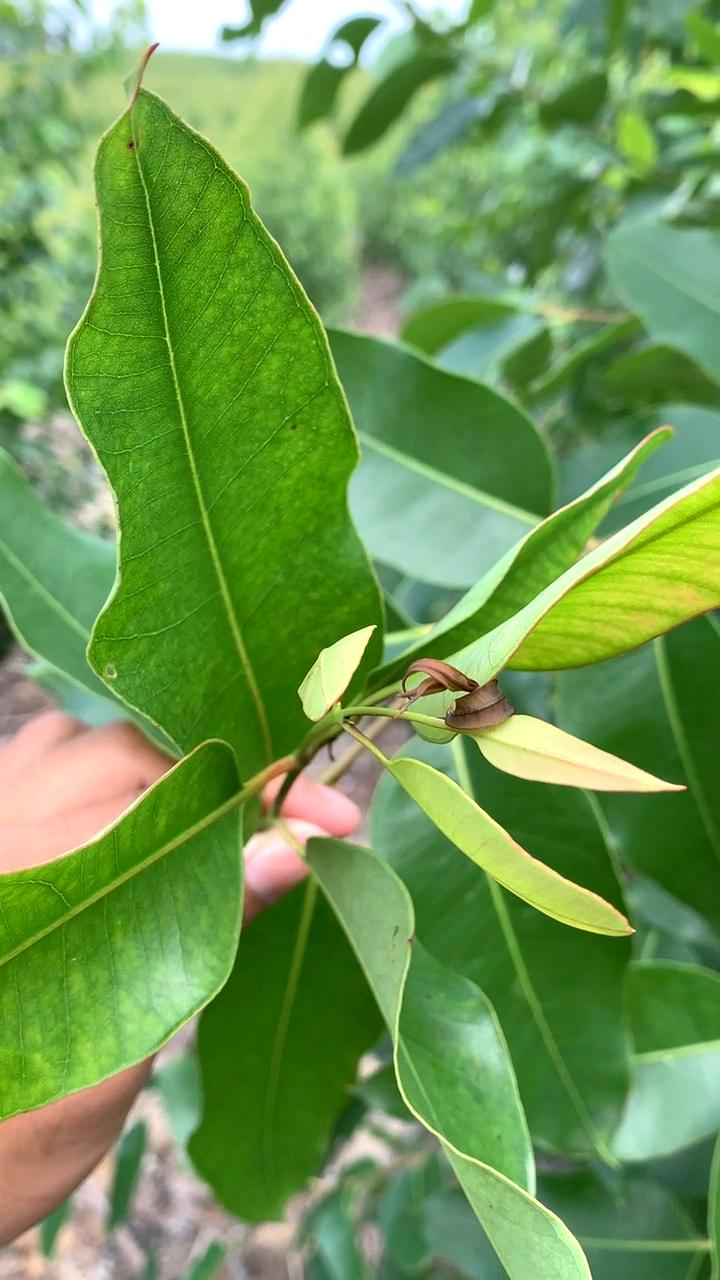Helopeltis-Withered Sprout: (395, 635, 523, 739)
